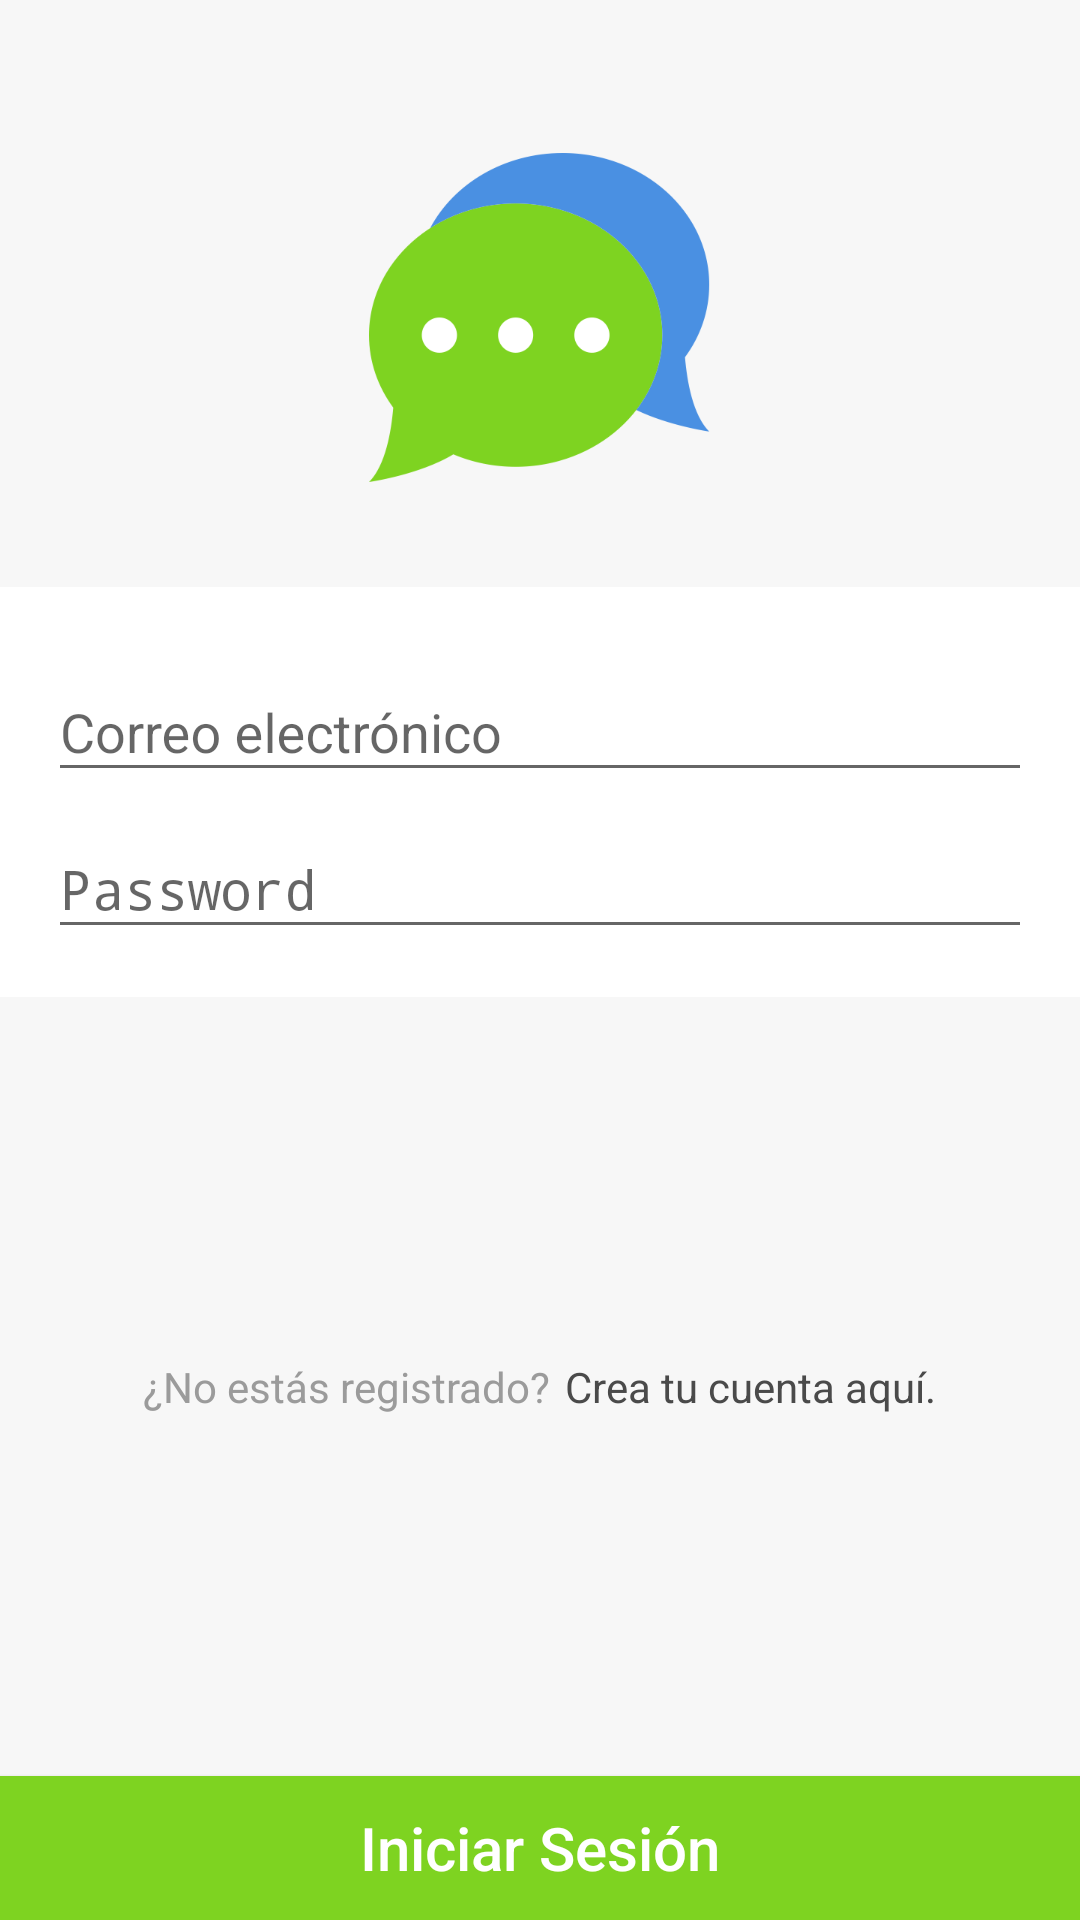

Where icons sit on this 1080px×1920px app screen, as (x1, y1, x2, y2):
chat: (369, 153, 710, 482)
